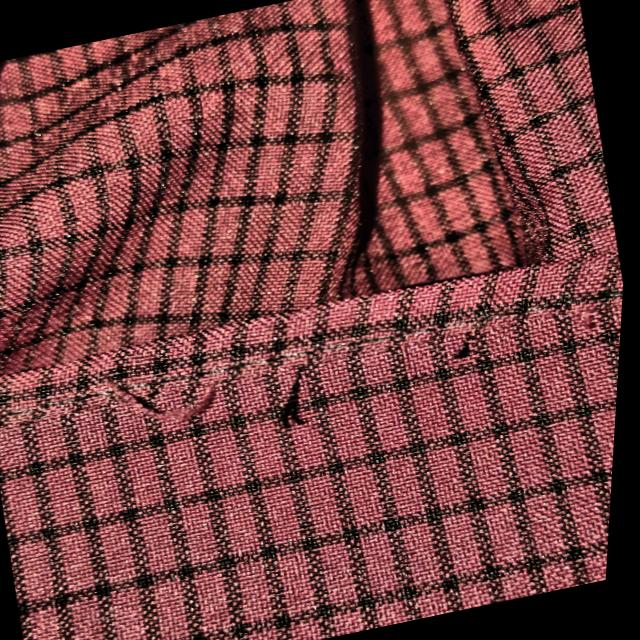Stitch: (79, 342, 246, 452), (258, 346, 362, 450)
